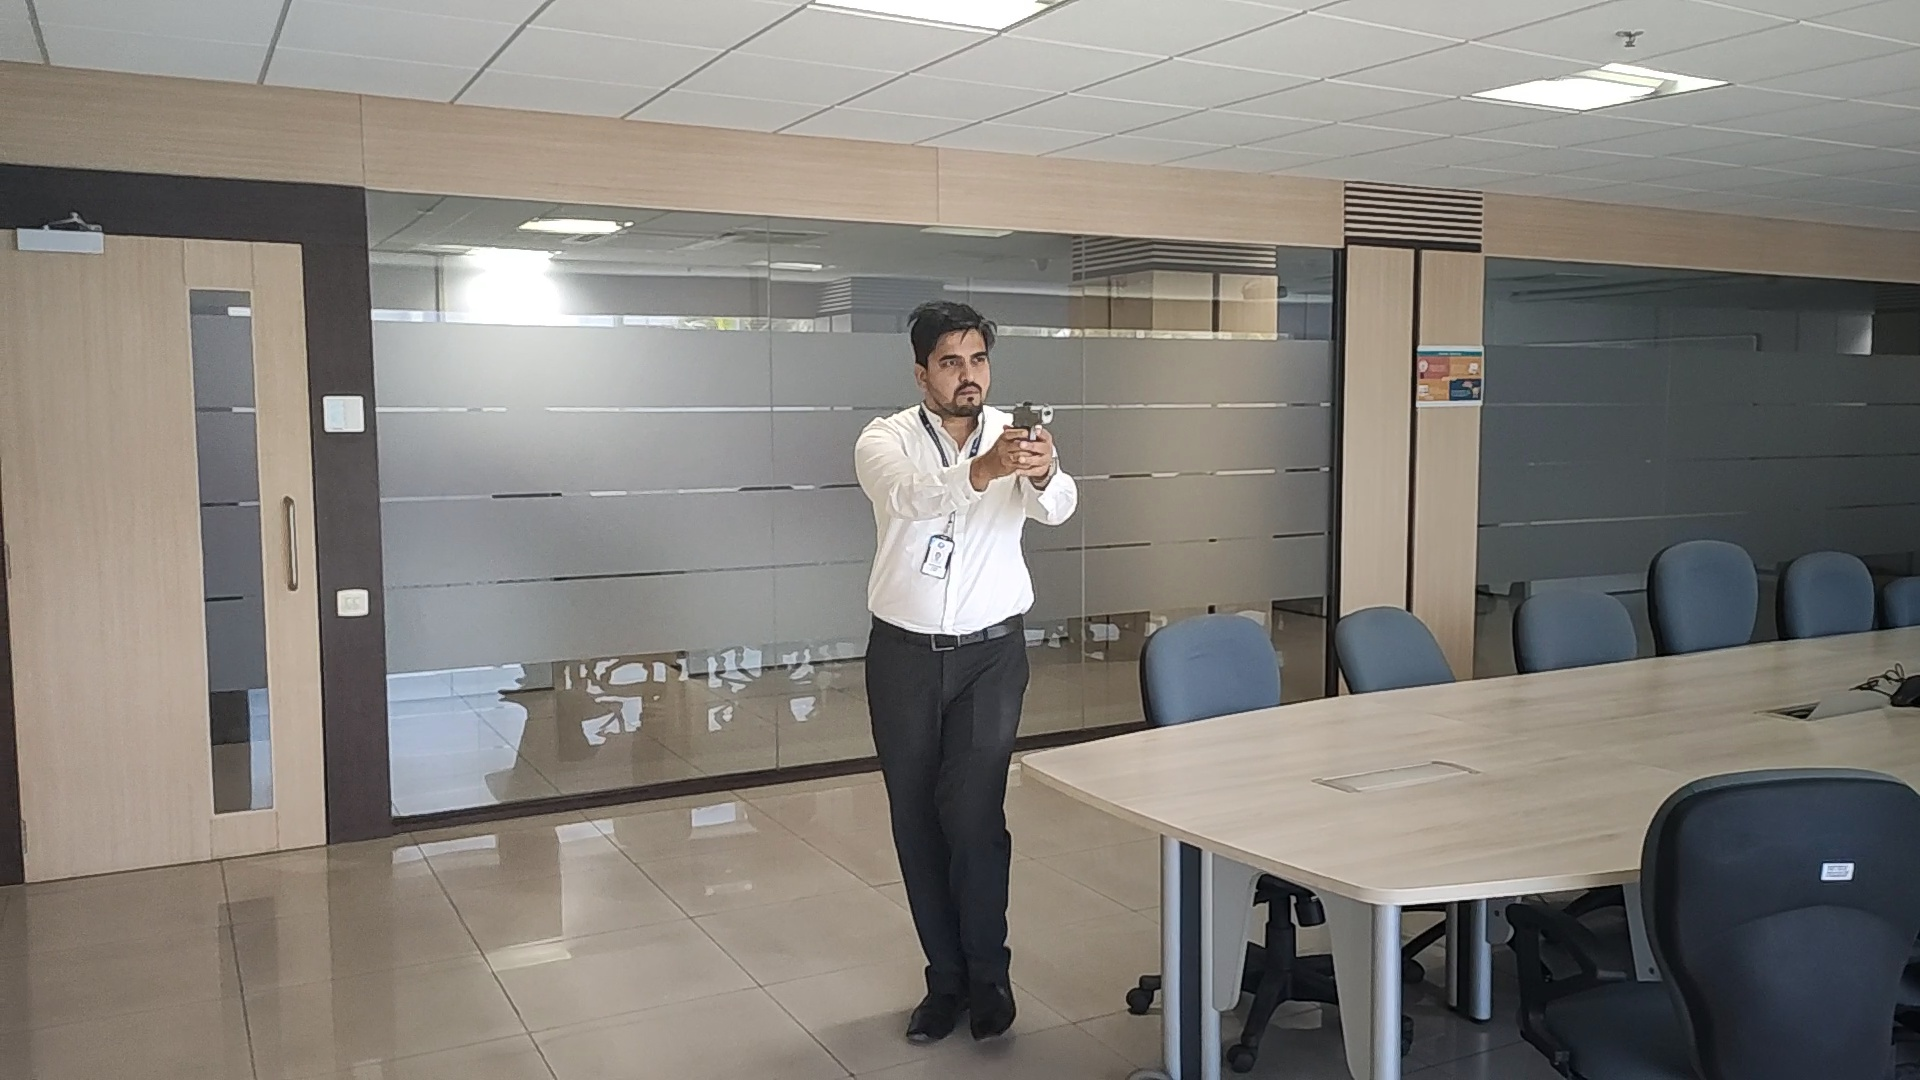gun: (1011, 401, 1052, 440)
